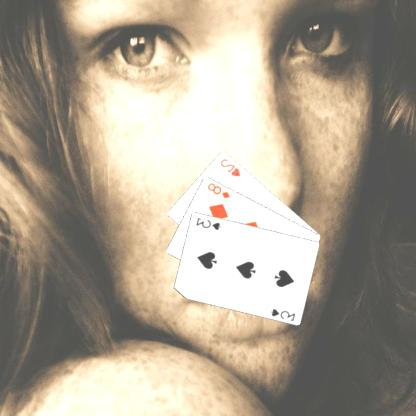2H: (219, 156, 243, 178)
3S: (270, 305, 298, 322), (195, 215, 223, 231)
8D: (206, 180, 233, 199)
